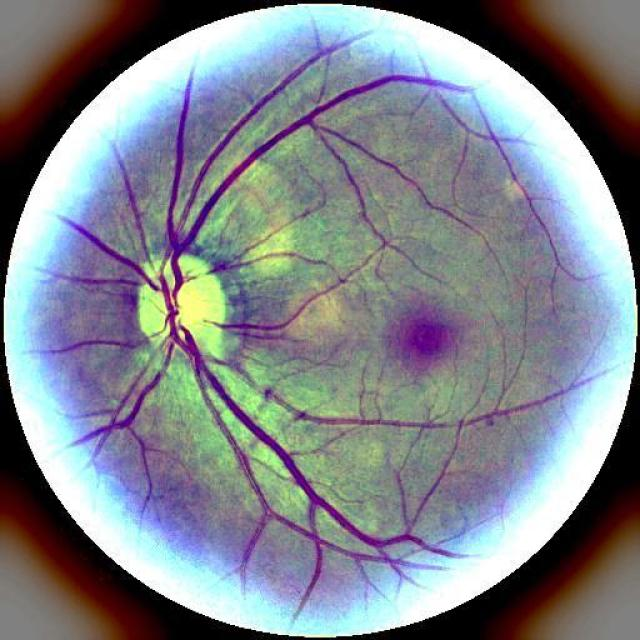Macula: (409, 322, 445, 355)
